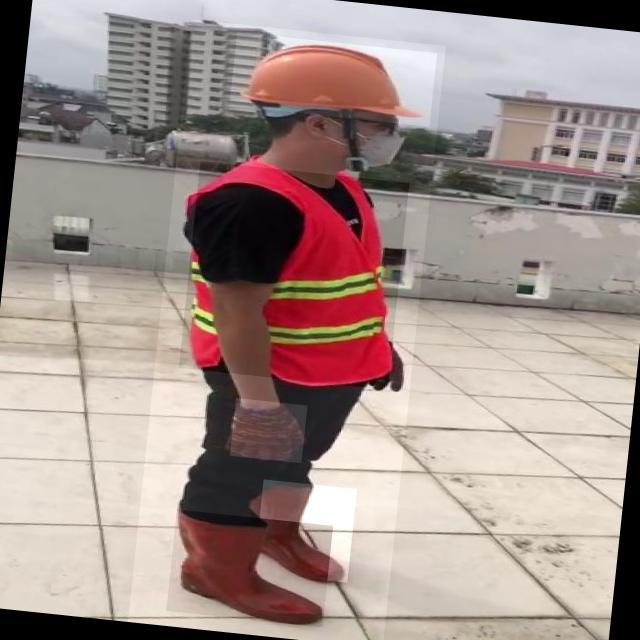Gloves: (229, 398, 307, 463)
Helmet: (230, 32, 439, 127)
Human: (127, 19, 445, 640)
Safety Boot: (166, 509, 333, 627), (254, 479, 357, 582)
Safety Vest: (178, 161, 409, 390)
